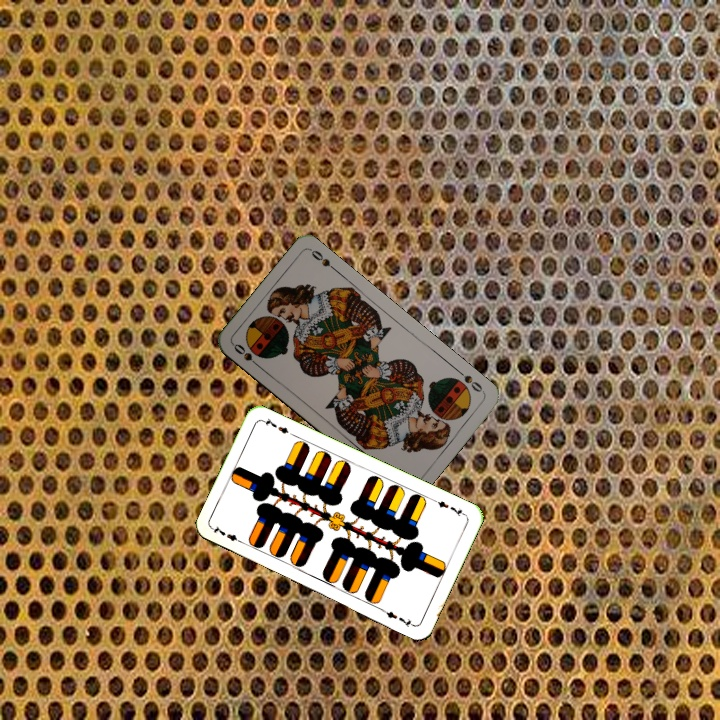E7: (209, 521, 247, 547), (430, 496, 468, 519)
SO: (230, 339, 263, 371), (453, 365, 487, 396)
